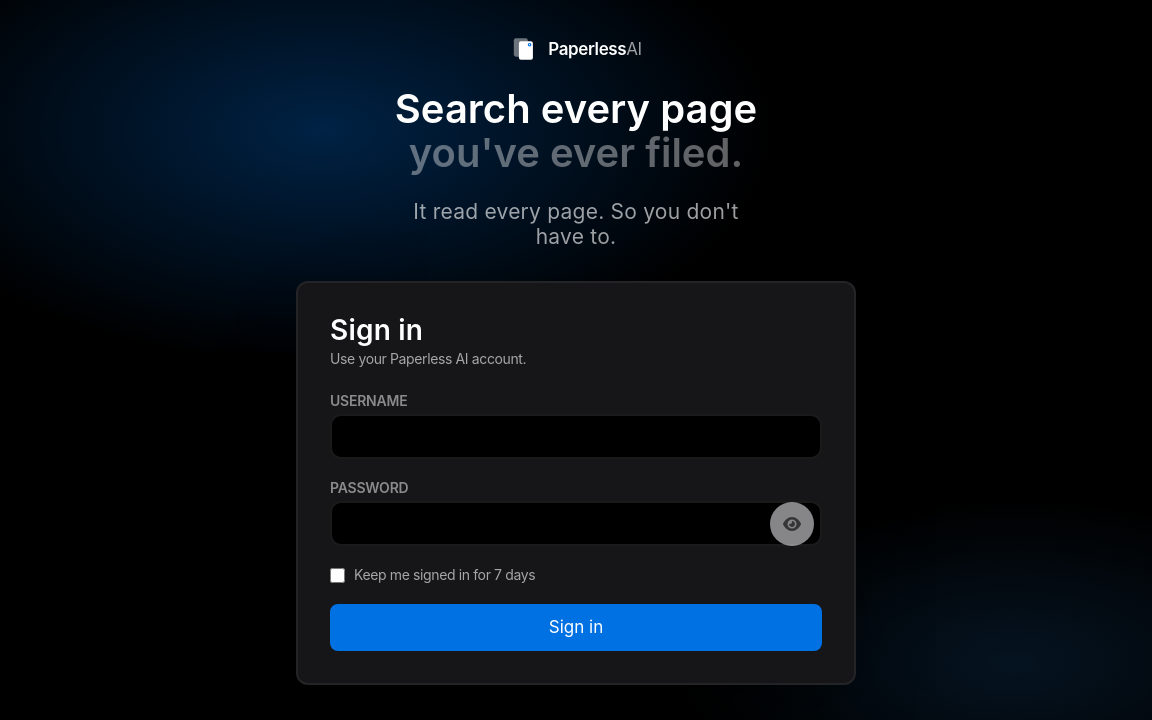
Test: LoginScreen › shows a username validation error on illegal characters
Type "bad name!" into the field named "Username" at (576, 437), box [330,414,822,459]
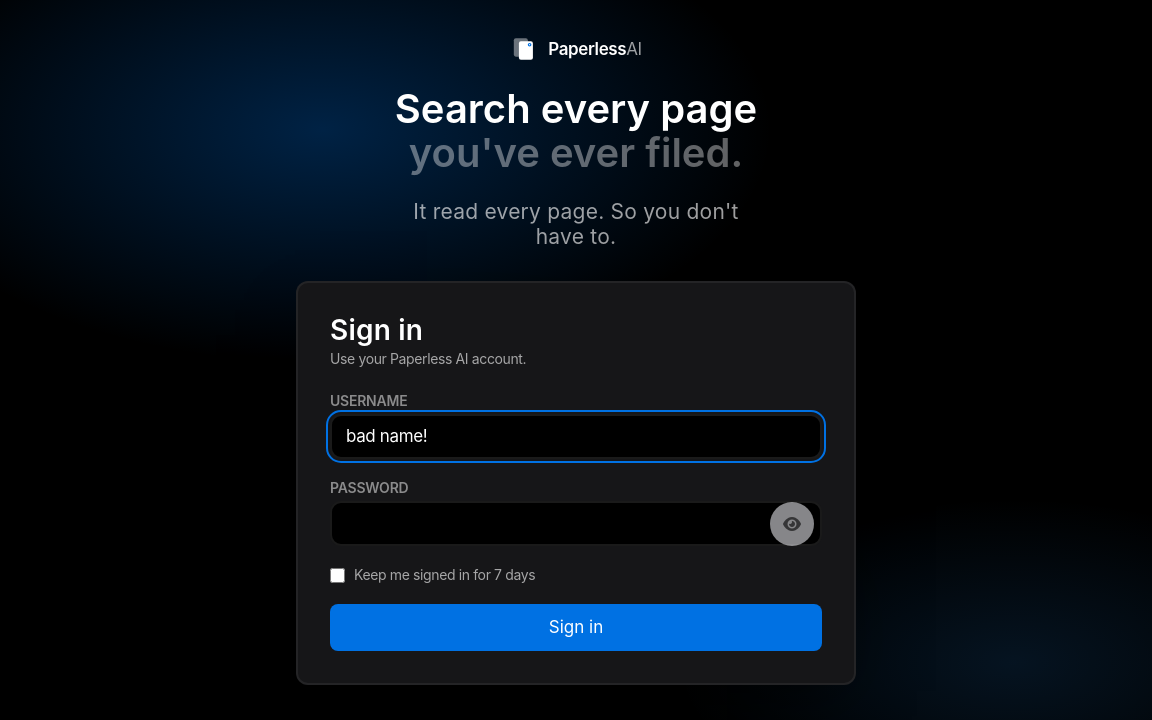
Type "longenoughpw12" into the password field named "Password" at (576, 524), box [330,501,822,546]
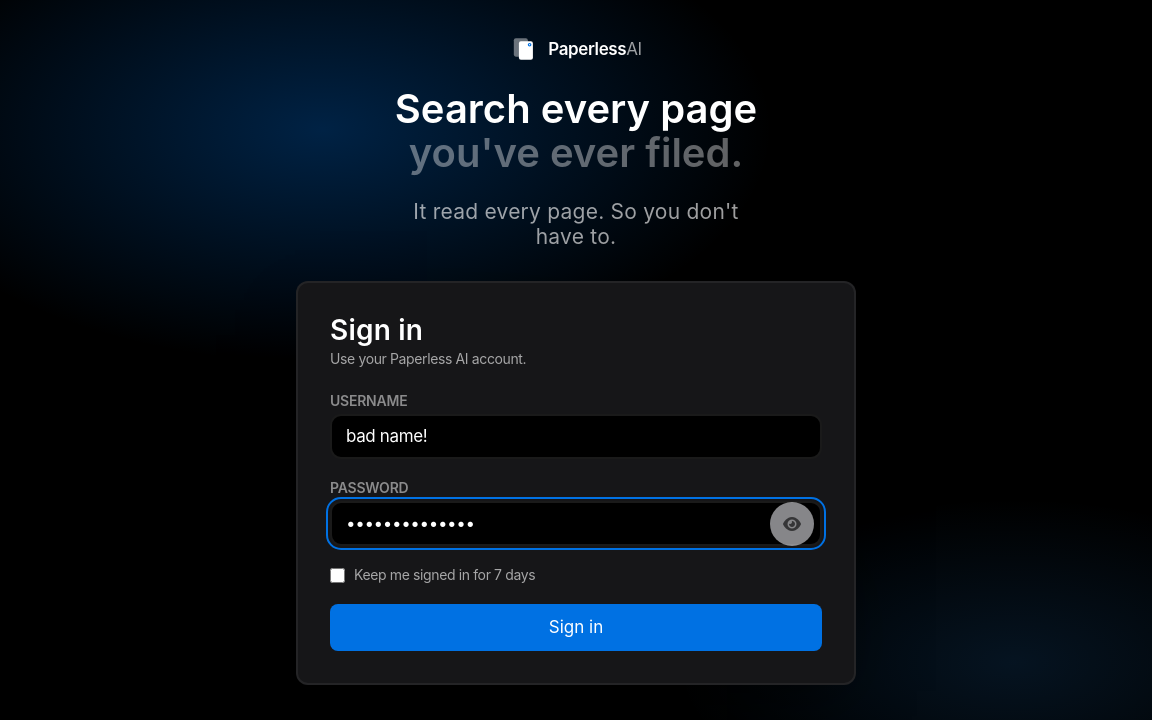
Click the button named "sign in" at (576, 628), box [330,604,822,651]
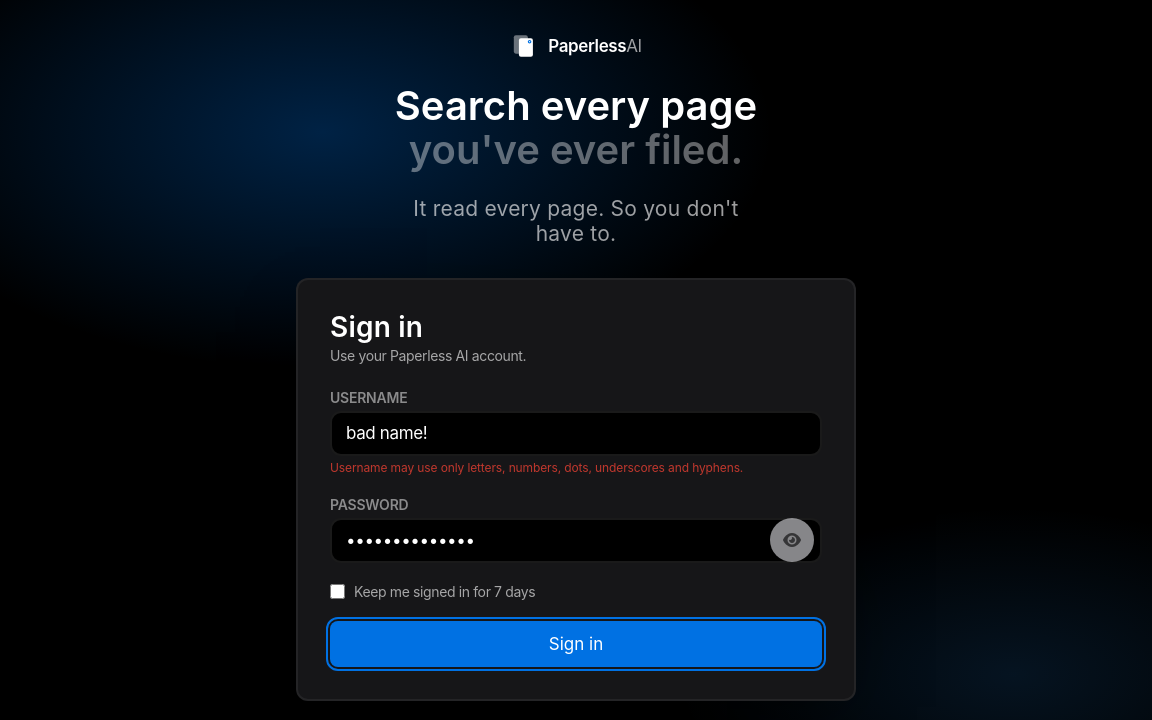
Expected: the text "letters, numbers" is shown, [330,460,743,475]
